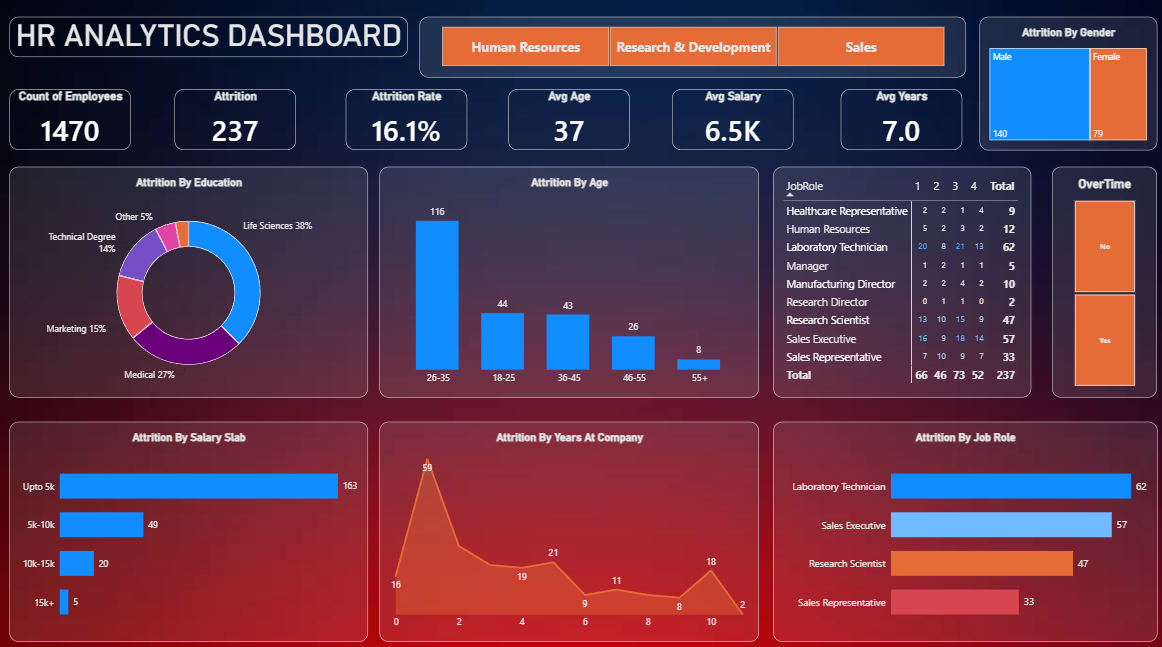

The dashboard page shown, as its layout file describes it:
{"tool":"powerbi","page":{"name":"Page 1","canvas":[1920,1080],"ordinal":0},"visuals":[{"type":"cardVisual","title":"Count of Employees","fields":{"Data":["HR_Analytics.Total Employees"]},"box":[20,150,200,100],"z":0},{"type":"cardVisual","title":"Attrition","fields":{"Data":["Sum(HR_Analytics.AttritionCount)"]},"box":[292.5,150,200,100],"z":1000},{"type":"cardVisual","title":"Attrition Rate","fields":{"Data":["HR_Analytics.AttritionRate"]},"box":[575,150,200,100],"z":2000},{"type":"cardVisual","title":"Avg Age","fields":{"Data":["HR_Analytics.AverageAge"]},"box":[842.5,150,200,100],"z":3000},{"type":"cardVisual","title":"Avg Years","fields":{"Data":["Avg(HR_Analytics.YearsAtCompany)"]},"box":[1390,150,200,100],"z":4000},{"type":"cardVisual","title":"Avg Salary","fields":{"Data":["Avg(HR_Analytics.MonthlyIncome)"]},"box":[1112.5,150,200,100],"z":5000},{"type":"donutChart","title":"Attrition By Education","fields":{"Category":["HR_Analytics.EducationField"],"Y":["Sum(HR_Analytics.AttritionCount)"]},"box":[20,277.5,590,380],"z":6000},{"type":"columnChart","title":"Attrition By Age","fields":{"Category":["HR_Analytics.AgeGroup"],"Y":["Sum(HR_Analytics.AttritionCount)"]},"box":[630,277.5,625,380],"z":7000},{"type":"pivotTable","fields":{"Columns":["HR_Analytics.JobSatisfaction"],"Rows":["HR_Analytics.JobRole"],"Values":["Sum(HR_Analytics.AttritionCount)"]},"box":[1277.5,277.5,425,380],"z":8000},{"type":"barChart","title":"Attrition By Salary Slab","fields":{"Category":["HR_Analytics.SalarySlab"],"Y":["Sum(HR_Analytics.AttritionCount)"]},"box":[20,697.5,590,362.5],"z":9000},{"type":"barChart","title":"Attrition By Job Role","fields":{"Category":["HR_Analytics.JobRole"],"Y":["Sum(HR_Analytics.AttritionCount)"]},"box":[1277.5,697.5,632.5,362.5],"z":10000},{"type":"areaChart","title":"Attrition By Years At Company","fields":{"Category":["HR_Analytics.YearsAtCompany"],"Y":["Sum(HR_Analytics.AttritionCount)"]},"box":[630,697.5,625,362.5],"z":10001},{"type":"treemap","title":"Attrition By Gender","fields":{"Group":["HR_Analytics.Gender"],"Values":["Sum(HR_Analytics.AttritionCount)"]},"box":[1617.5,30,292.5,220],"z":10002},{"type":"slicer","fields":{"Values":["HR_Analytics.Department"]},"box":[695,30,900,100],"z":10003},{"type":"textbox","box":[20,30,656,66],"z":10004},{"type":"slicer","title":"OverTime","fields":{"Values":["HR_Analytics.OverTime"]},"box":[1737.5,277.5,172.5,380],"z":10005}]}

Visuals, with their boxes in screenshot pixels (x1, y1, x2, y2), scaled from the page's 1920x1080 canvas onto the 1162x647 screenshot:
"Count of Employees" cardVisual: detection(12, 90, 133, 150)
"Attrition" cardVisual: detection(177, 90, 298, 150)
"Attrition Rate" cardVisual: detection(348, 90, 469, 150)
"Avg Age" cardVisual: detection(510, 90, 631, 150)
"Avg Years" cardVisual: detection(841, 90, 962, 150)
"Avg Salary" cardVisual: detection(673, 90, 794, 150)
"Attrition By Education" donutChart: detection(12, 166, 369, 394)
"Attrition By Age" columnChart: detection(381, 166, 760, 394)
pivotTable - HR_Analytics.JobSatisfaction x HR_Analytics.JobRole: detection(773, 166, 1030, 394)
"Attrition By Salary Slab" barChart: detection(12, 418, 369, 635)
"Attrition By Job Role" barChart: detection(773, 418, 1156, 635)
"Attrition By Years At Company" areaChart: detection(381, 418, 760, 635)
"Attrition By Gender" treemap: detection(979, 18, 1156, 150)
slicer - HR_Analytics.Department: detection(421, 18, 965, 78)
textbox: detection(12, 18, 409, 58)
"OverTime" slicer: detection(1052, 166, 1156, 394)
